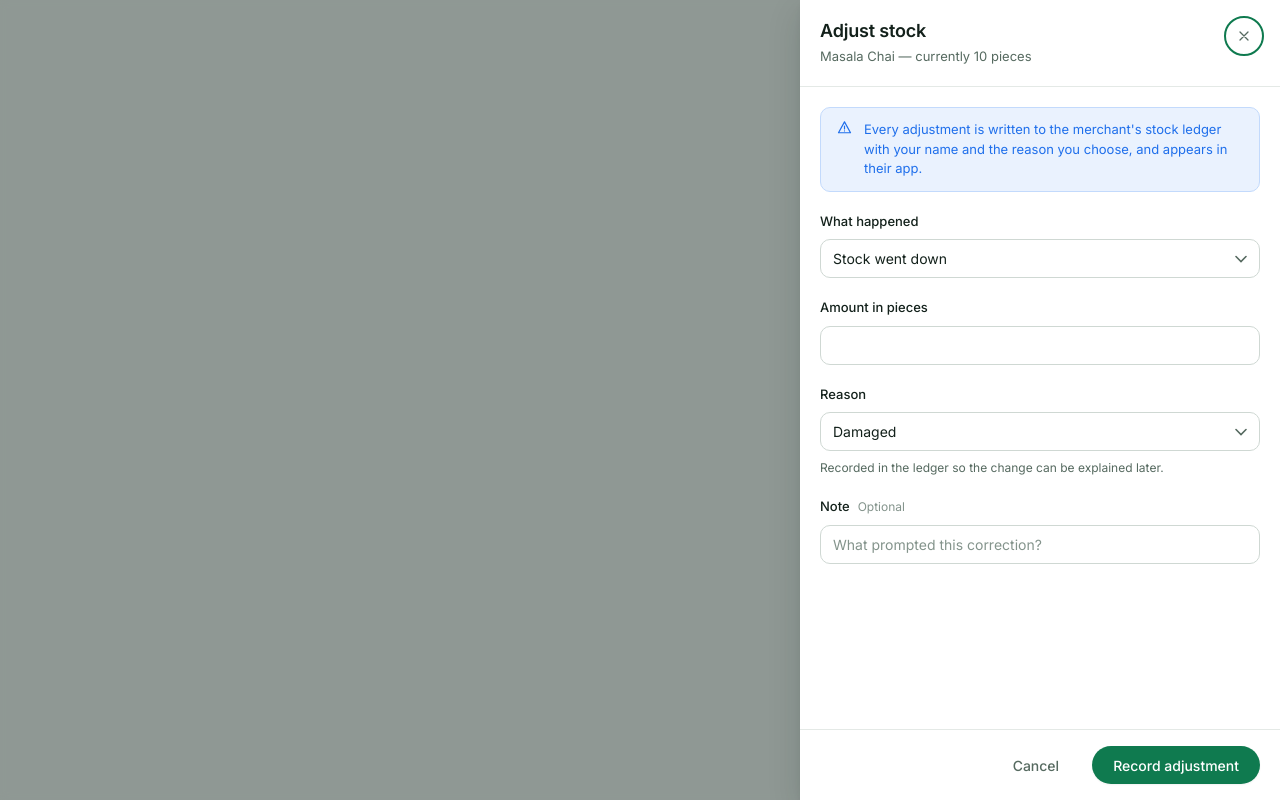
Test case: StockAdjustDrawer › refuses more than three decimal places
The width and height of the screenshot is (1280, 800).
Type "1.0005" into the number field labelled "Amount in pieces".
click(1040, 345); type("1.0005")  # box [820,326,1260,364]
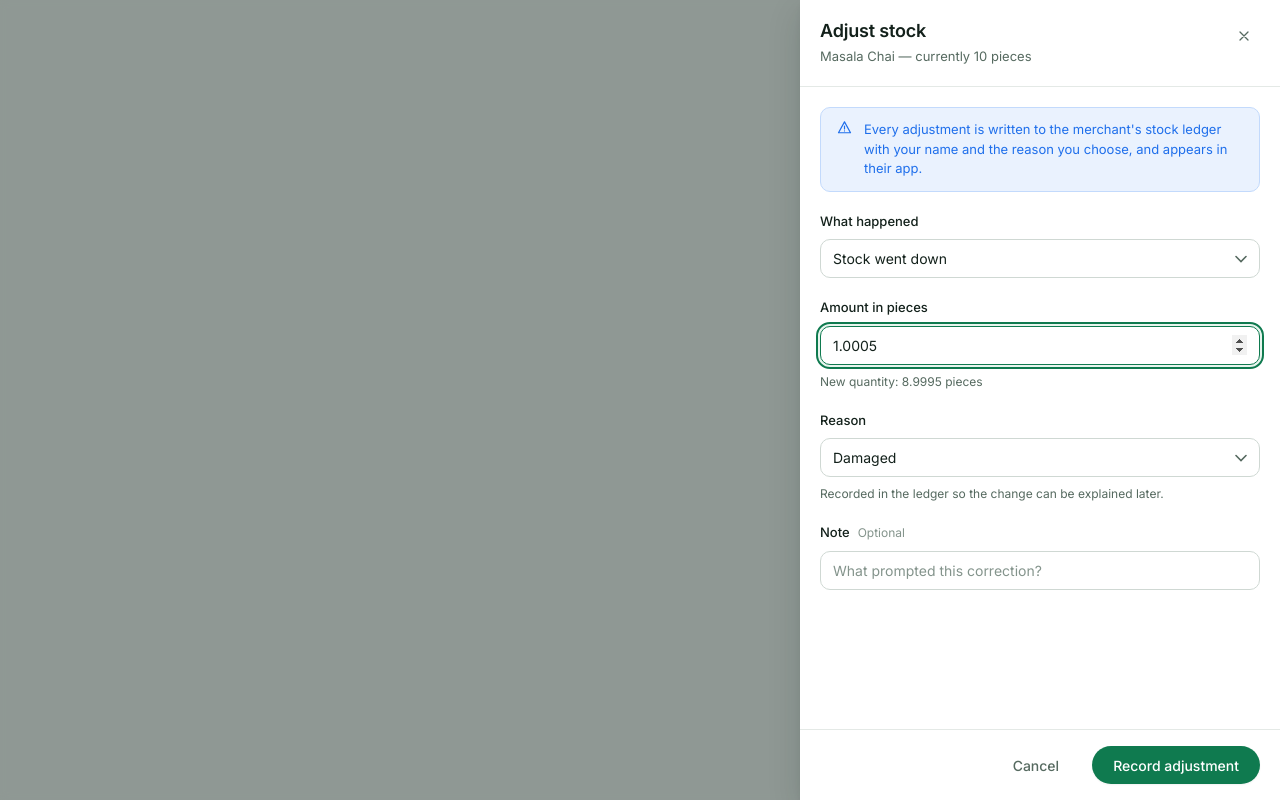
Click the button "Record adjustment".
click(1176, 765)  # box [1092,746,1260,784]
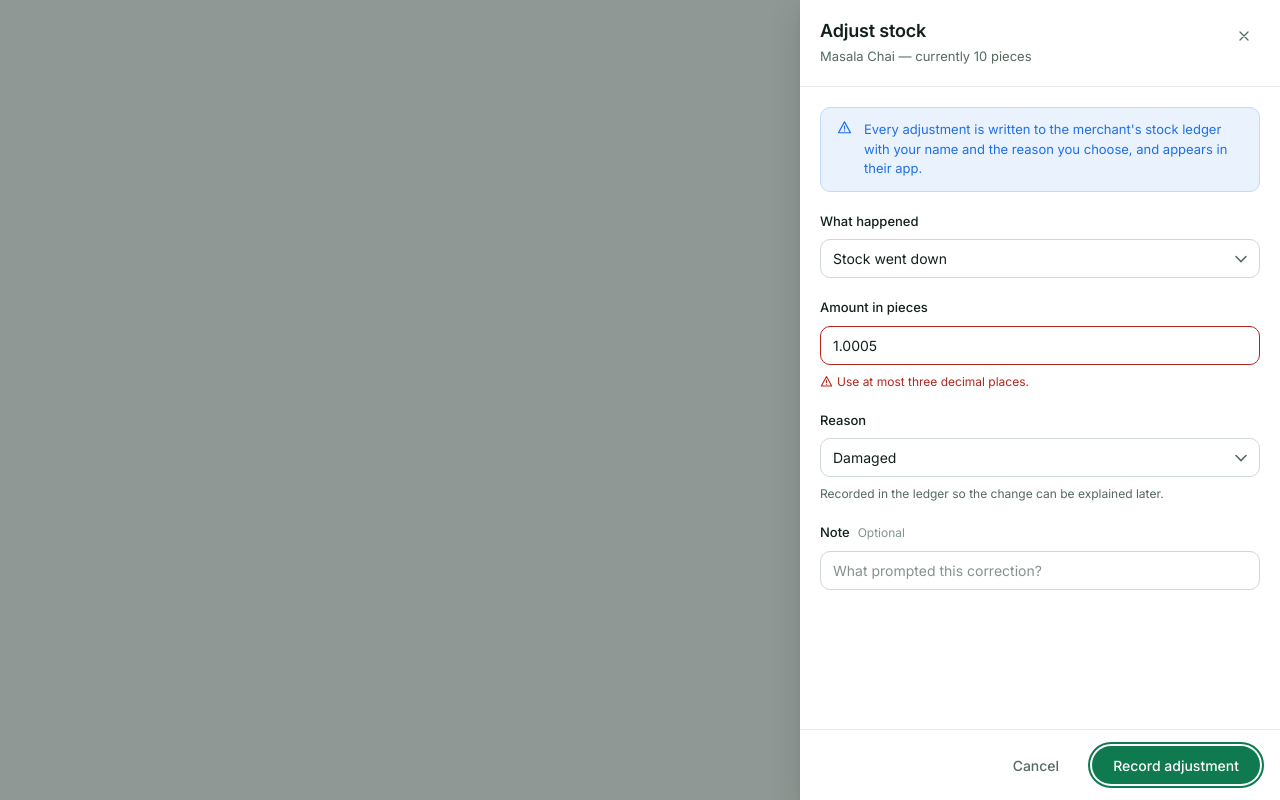
expect the text "Use at most three decimal places." is shown: met, box [820,374,1029,388]
